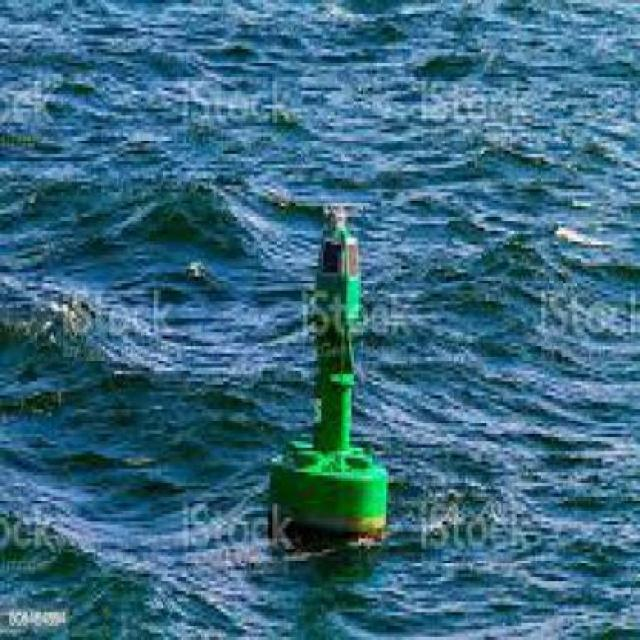buoy: (261, 186, 399, 554)
